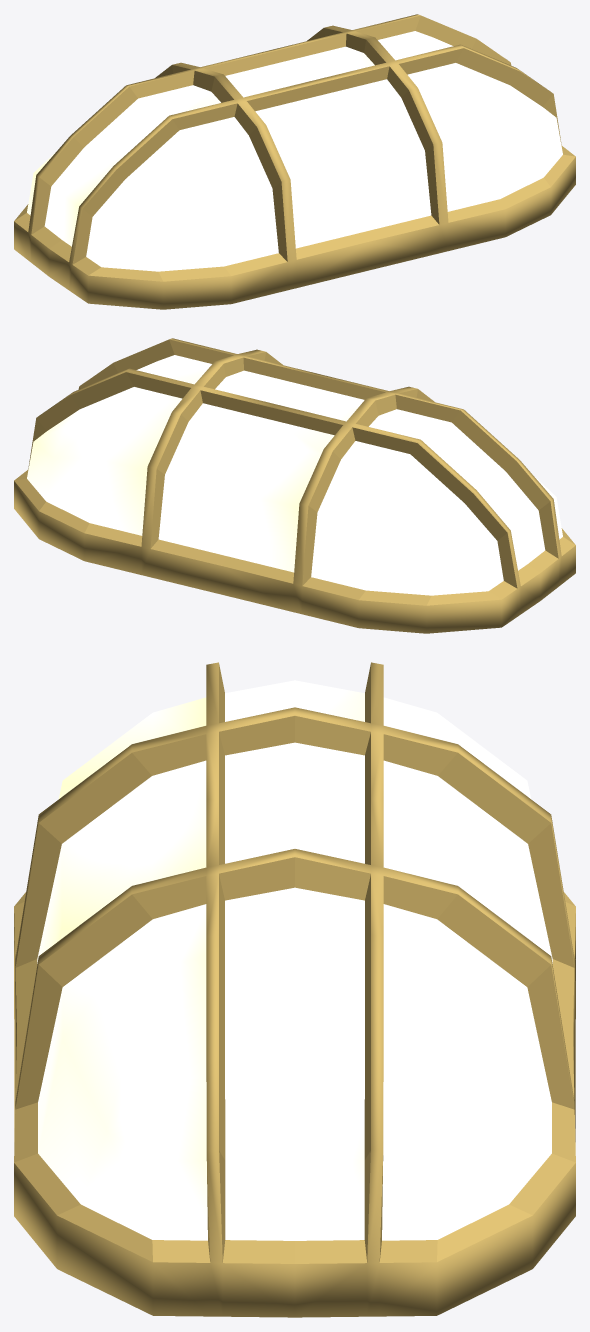
The model's file is ShipLamp.fbx.
The picture shows the model from 3 angles, top to bottom: view 1: azimuth 30°, elevation 25°; view 2: azimuth 150°, elevation 25°; view 3: azimuth 270°, elevation 25°; orthographic projection. The views are drawn at different scales.
Parts seen in each view (by area): view 1: ShipLamp; view 2: ShipLamp; view 3: ShipLamp.
Boxes of the visible parts, x1,y1,x2,y2 form: ShipLamp: (14,14,575,309); ShipLamp: (14,338,575,633); ShipLamp: (14,662,575,1317).
Bounding box in the file's own units: 0.2754 × 0.1426 × 0.0857.
